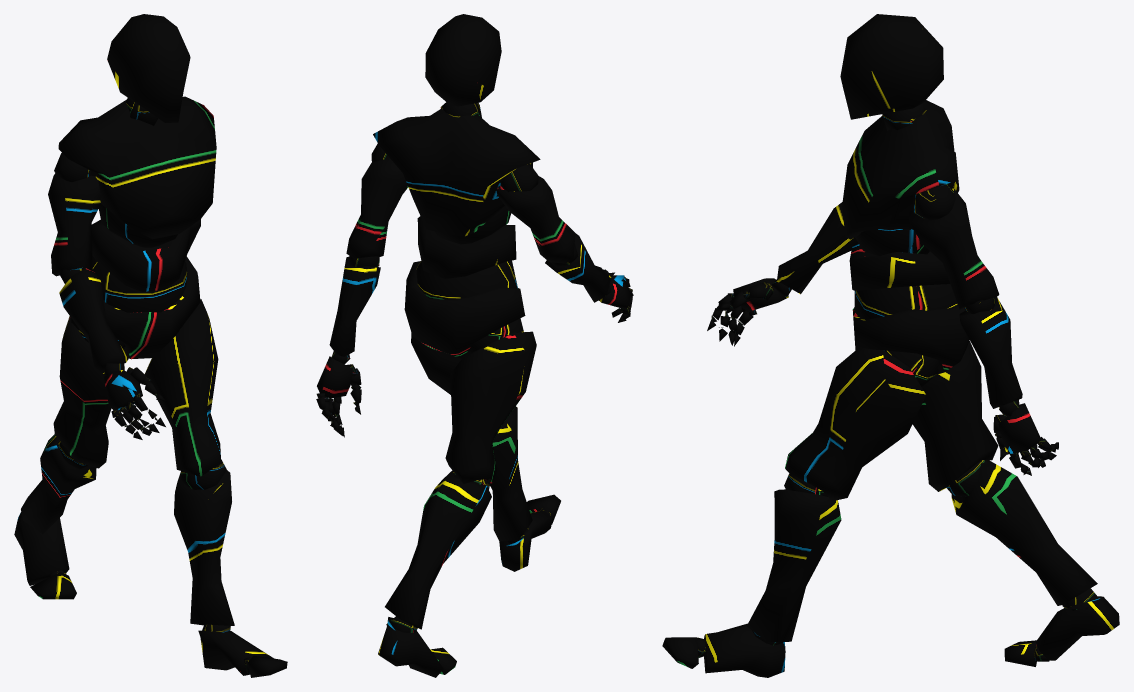
The model's file is y-bot-origin_000021.obj.
The picture shows the model from 3 angles, left to right: view 1: azimuth 30°, elevation 25°; view 2: azimuth 150°, elevation 25°; view 3: azimuth 270°, elevation 25°; orthographic projection. The views are drawn at different scales.
Parts seen in each view (by area): view 1: Alpha_Surface_Alpha_SurfaceMesh, Alpha_Joints_Alpha_JointsMesh; view 2: Alpha_Surface_Alpha_SurfaceMesh, Alpha_Joints_Alpha_JointsMesh; view 3: Alpha_Surface_Alpha_SurfaceMesh, Alpha_Joints_Alpha_JointsMesh.
Part boxes in pixels (bbox=[...]): Alpha_Surface_Alpha_SurfaceMesh: bbox=[14, 14, 287, 677]; Alpha_Joints_Alpha_JointsMesh: bbox=[50, 98, 251, 673]; Alpha_Surface_Alpha_SurfaceMesh: bbox=[316, 14, 633, 677]; Alpha_Joints_Alpha_JointsMesh: bbox=[316, 102, 632, 633]; Alpha_Surface_Alpha_SurfaceMesh: bbox=[662, 14, 1119, 677]; Alpha_Joints_Alpha_JointsMesh: bbox=[697, 103, 1097, 661].
Bounding box in the file's own units: 0.5723 × 1.74 × 1.1.
